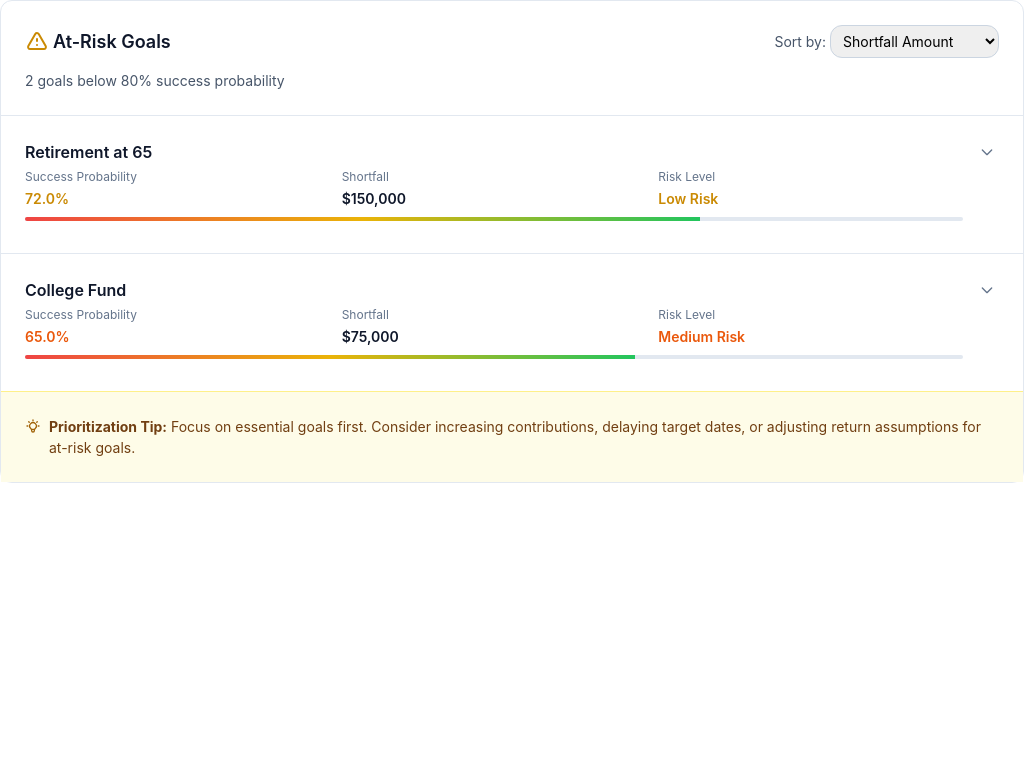
AtRiskGoalsPanel Integration Tests › expands goal card to show recommendations
Expected: the heading "Retirement at 65" is shown, [25,142,152,162]
Click the 2nd button.
click(987, 152)  # box [975,140,999,164]
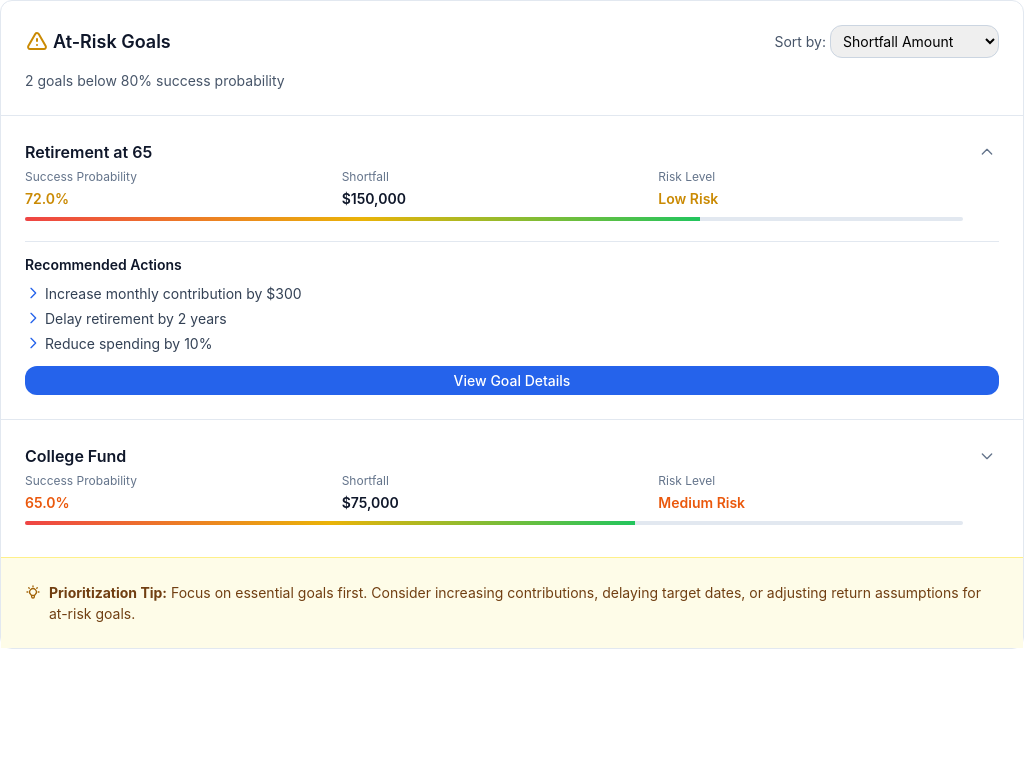
Expected: the heading "Recommended Actions" is shown, [25,256,182,273]
Expected: the text "Increase monthly contribution by $300" is shown, [45,283,302,304]
